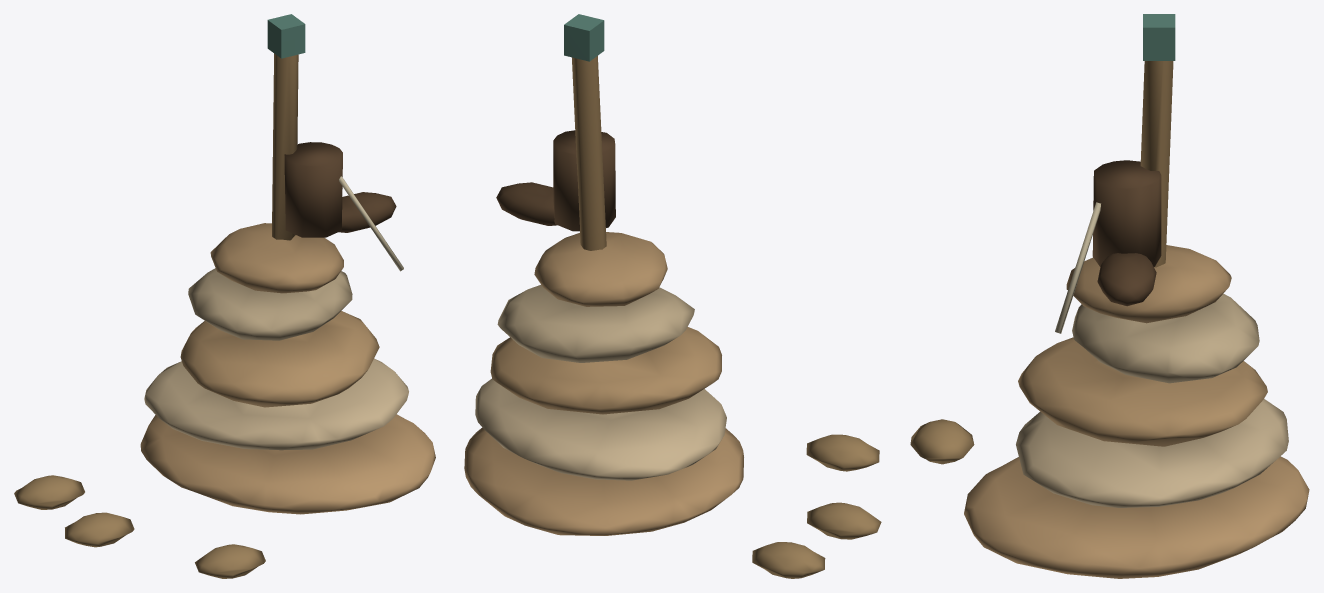
Rendered from survey_cairn_b_lod1.glb.
3 views of the same model, side by side, from view 1: azimuth 30°, elevation 25°; view 2: azimuth 150°, elevation 25°; view 3: azimuth 270°, elevation 25° (orthographic). The views are drawn at different scales.
Visible parts, largest first — view 1: Surface.001; view 2: Surface.001; view 3: Surface.001.
Part boxes in pixels (x1,y1,x2,y2): Surface.001: (14,14,435,578); Surface.001: (464,14,881,578); Surface.001: (910,14,1309,578).
Bounding box in the file's own units: 1.05 × 1.25 × 0.8669.
